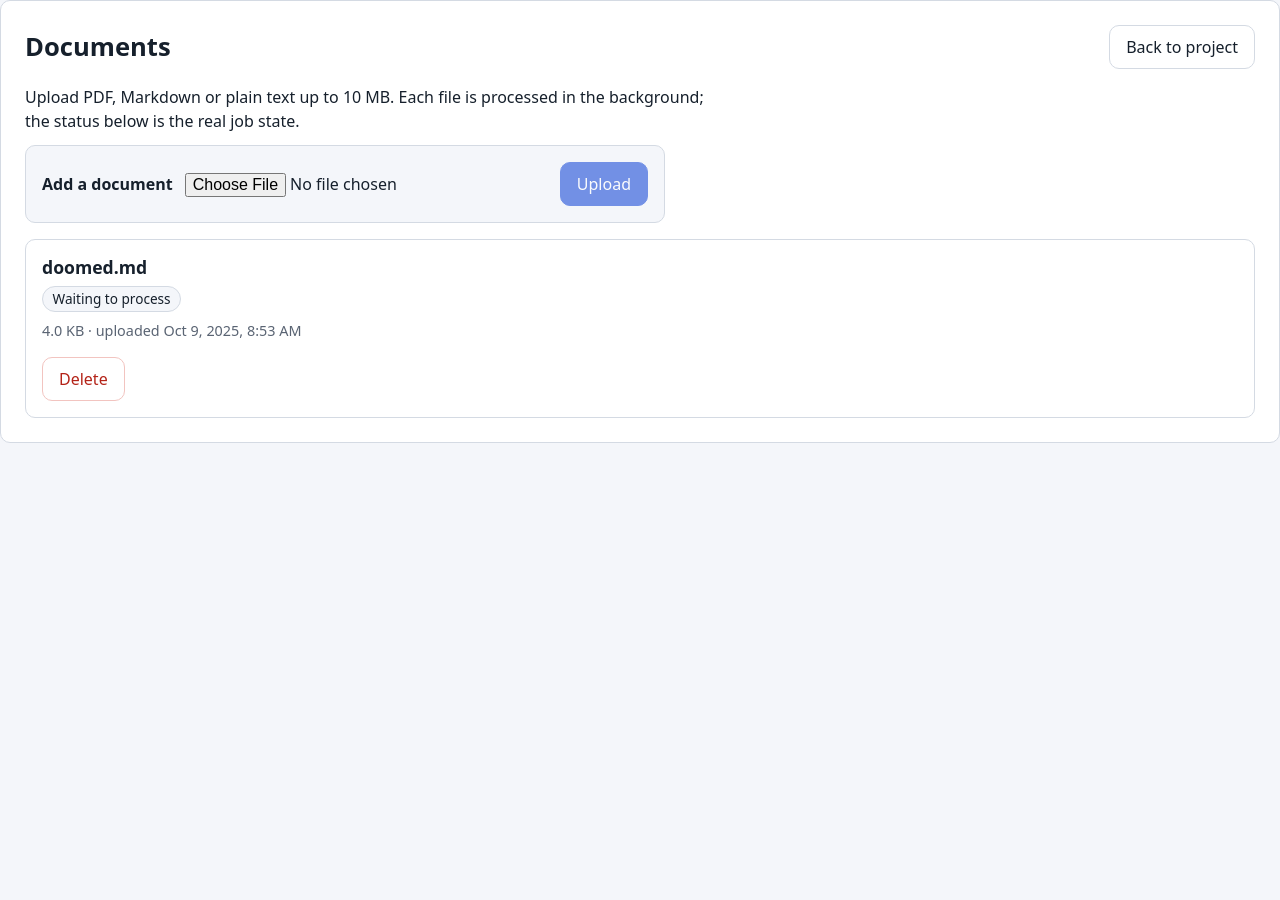
Scenario: delete requires explicit confirmation with document copy; cancel is safe
This screenshot has width=1280, height=900.
Expected: the heading "doomed.md" is shown, [42,255,147,279]
Click the button with aria-label "Delete doomed.md" at (83, 379), box [42,357,125,401]
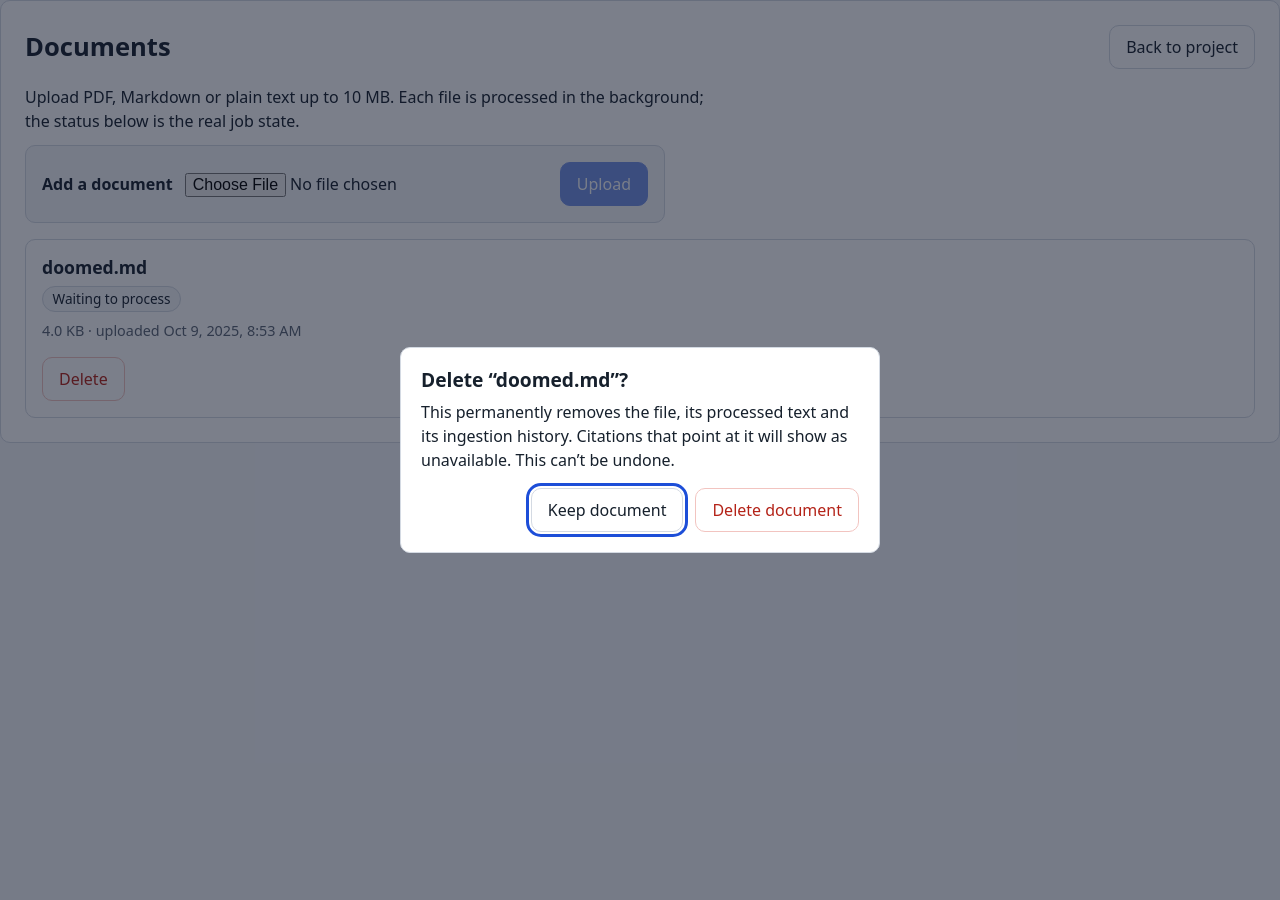
Result: the heading "Delete “doomed.md”?" is shown at [421,366,628,393]
Result: the dialog shows "Citations that point at it will show as unavailable" at [421,401,849,471]
Click the button "Keep document" at (607, 510), box [531,488,683,532]
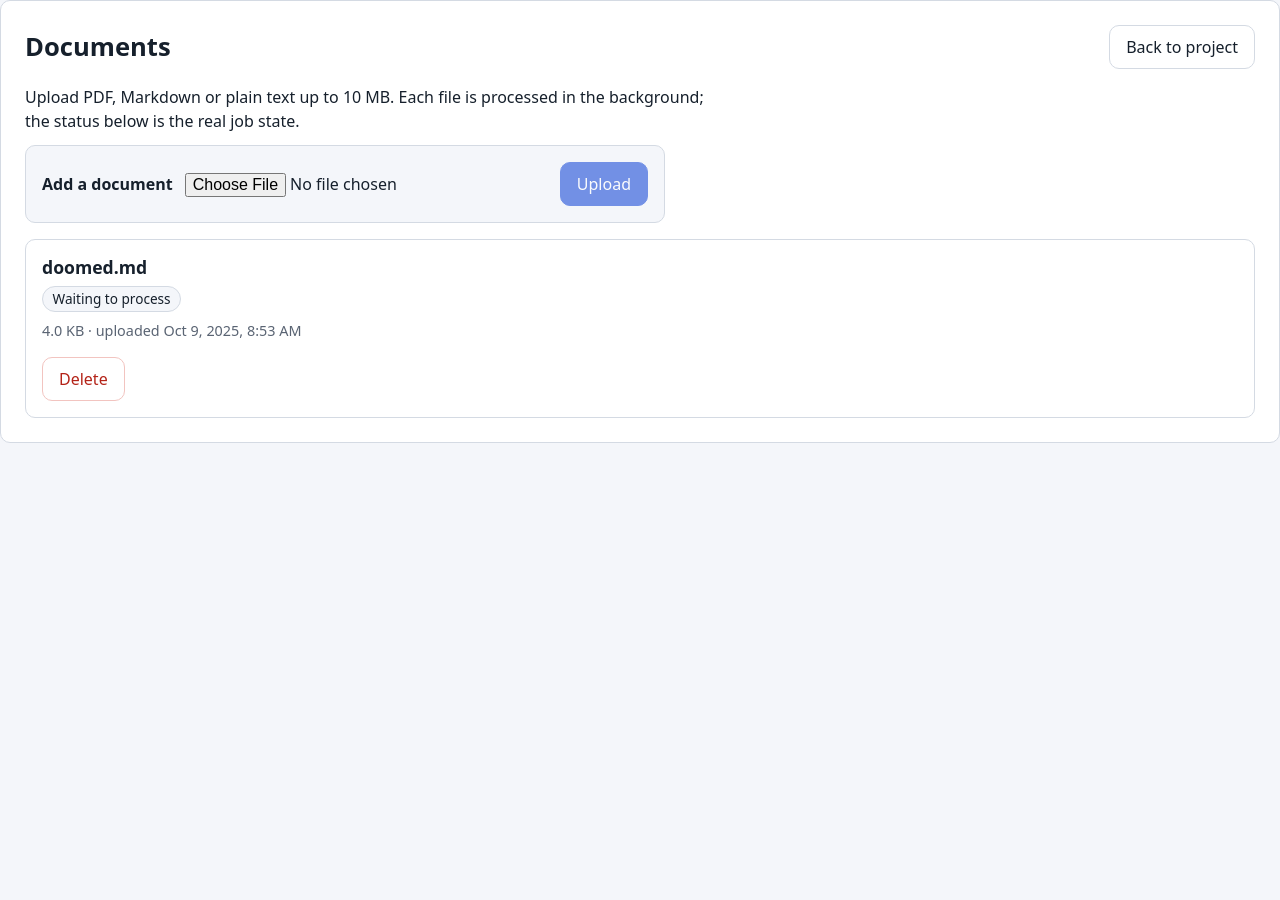
Expected: the heading "doomed.md" is shown, [42,255,147,279]
Result: the dialog is gone
Click the button with aria-label "Delete doomed.md" at (83, 379), box [42,357,125,401]
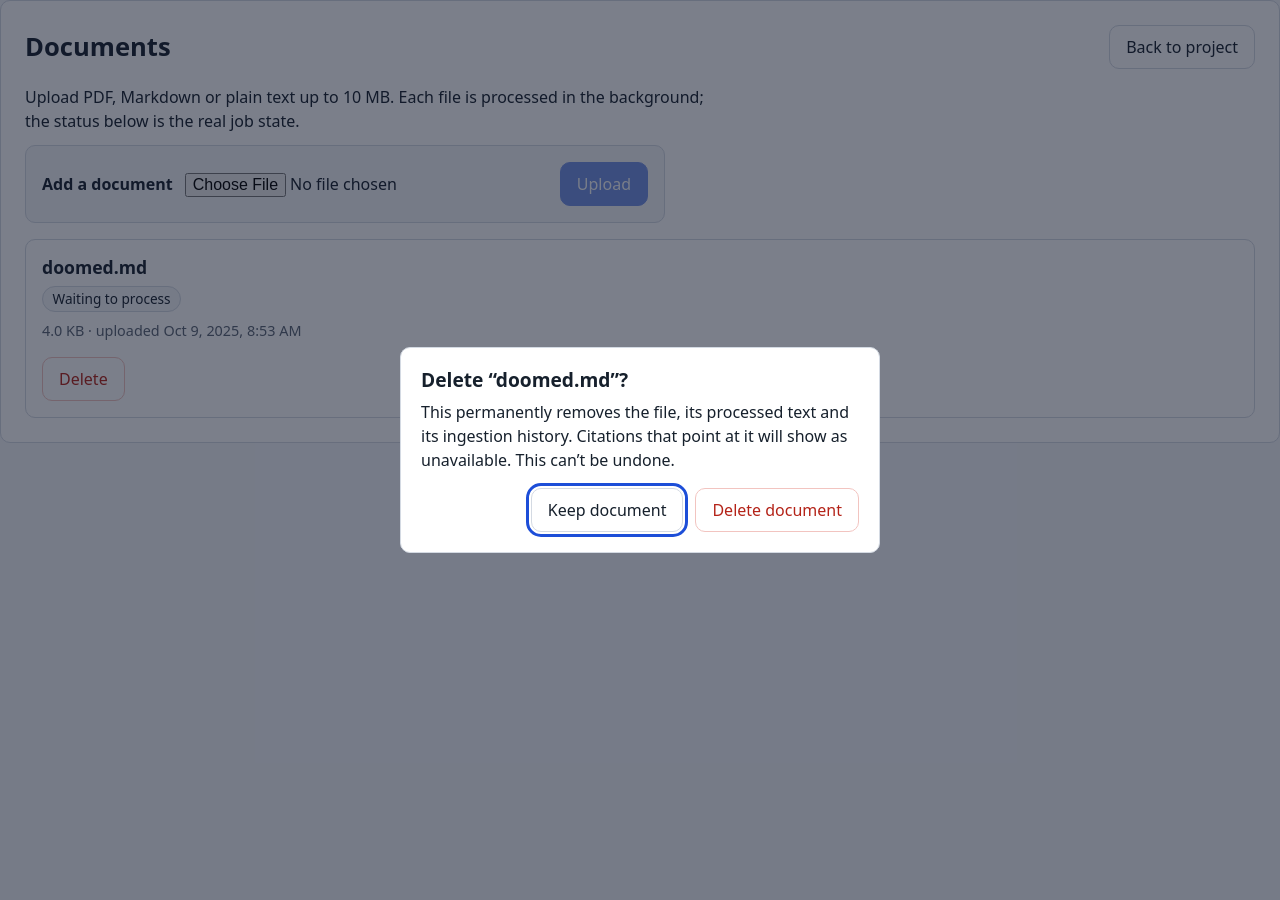
Click the button "Delete document" at (777, 510), box [695,488,859,532]
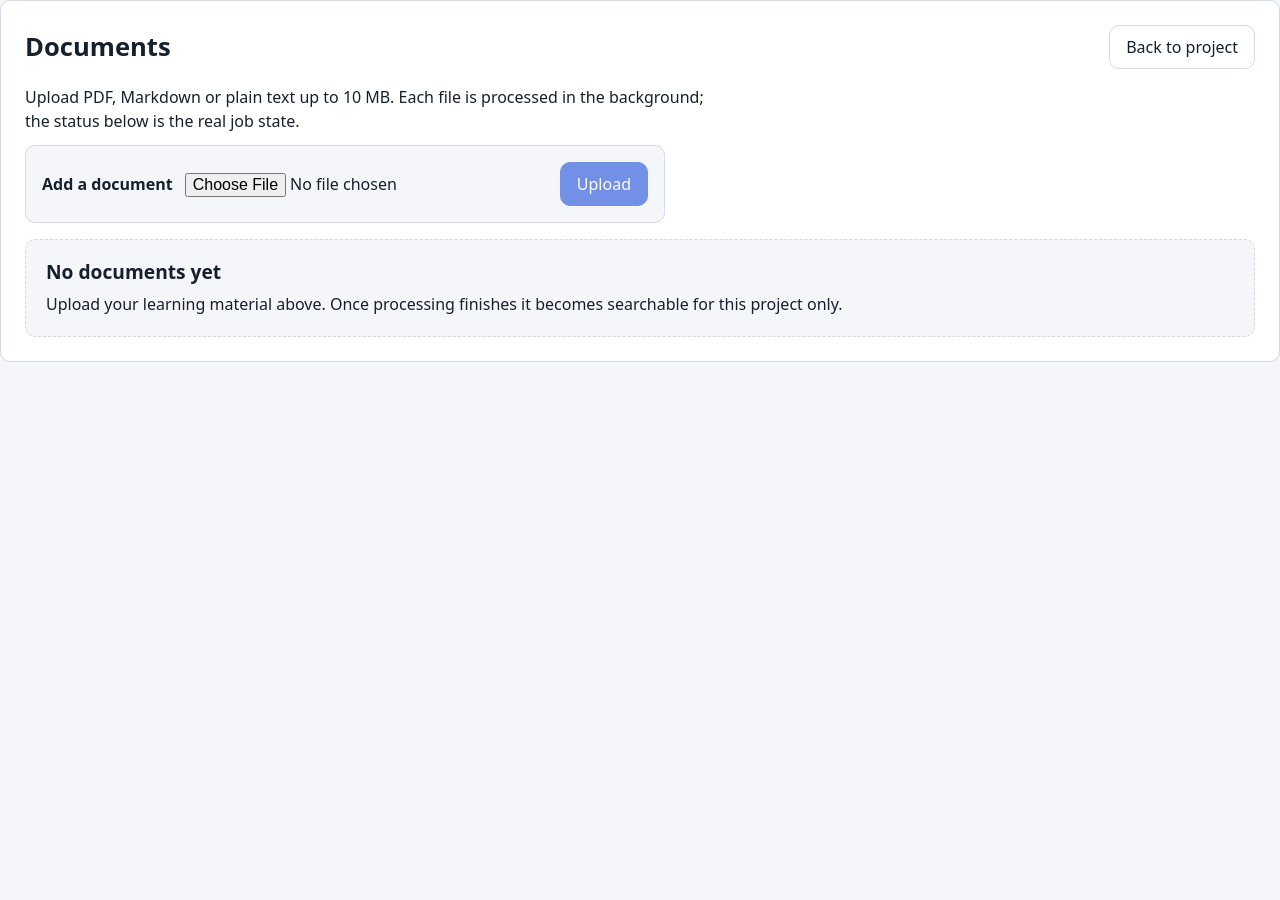
Result: the heading "No documents yet" is shown at [46,258,221,285]
